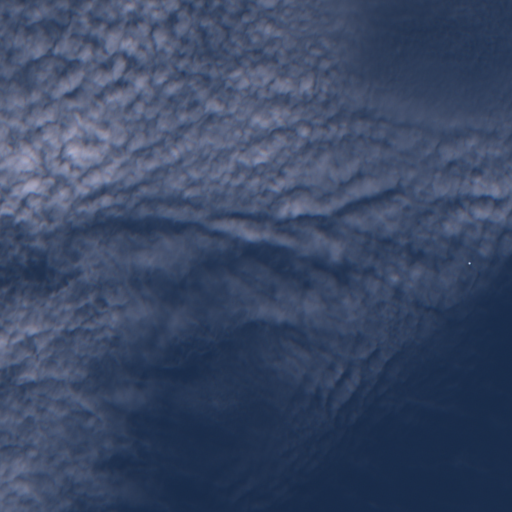Iceberg: (468, 262, 470, 264)
